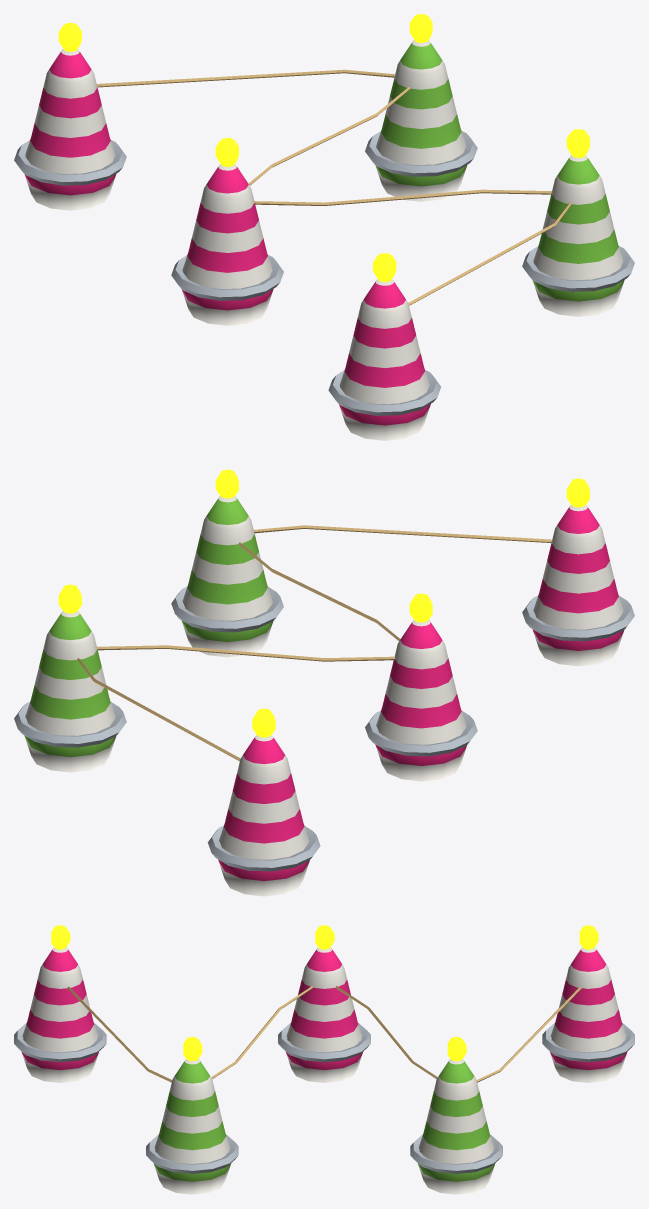
File: Track_Slalom.fbx
3 renders of one model, top to bottom at view 1: azimuth 30°, elevation 25°; view 2: azimuth 150°, elevation 25°; view 3: azimuth 270°, elevation 25°, orthographic. The views are drawn at different scales.
Parts seen in each view (by area): view 1: Track_Slalom; view 2: Track_Slalom; view 3: Track_Slalom.
Part boxes in pixels (x1=…): Track_Slalom: x1=14, y1=14, x2=634, y2=440; Track_Slalom: x1=14, y1=469, x2=634, y2=896; Track_Slalom: x1=14, y1=925, x2=634, y2=1194.
Bounding box in the file's own units: 5.44 × 2.4 × 9.4.
